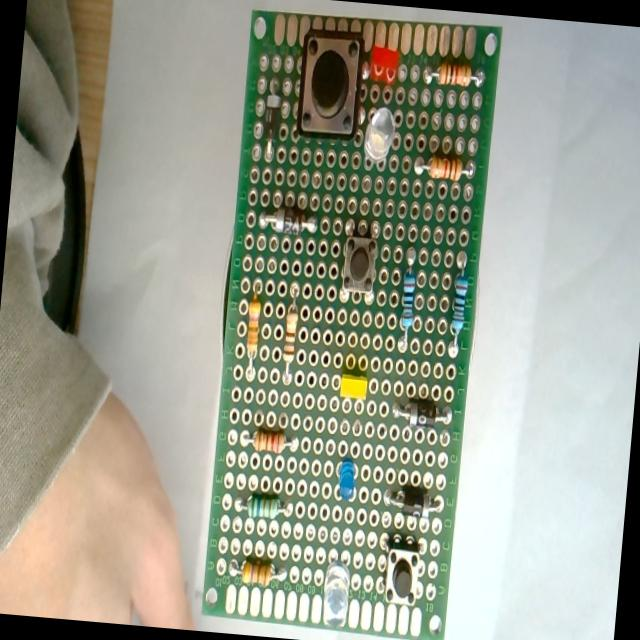diode: (258, 68, 286, 164), (387, 392, 458, 429), (379, 486, 445, 520), (256, 208, 318, 236)
led: (316, 544, 356, 634), (359, 100, 400, 168), (330, 364, 373, 406), (366, 42, 407, 84), (333, 446, 360, 506)
resistor: (444, 242, 475, 362), (394, 237, 422, 358), (224, 548, 292, 594), (231, 482, 296, 526), (278, 278, 303, 389), (410, 150, 477, 186), (242, 278, 264, 382), (237, 425, 301, 460), (422, 59, 486, 90)
switch: (290, 22, 368, 148), (378, 532, 428, 610), (337, 218, 380, 304)
